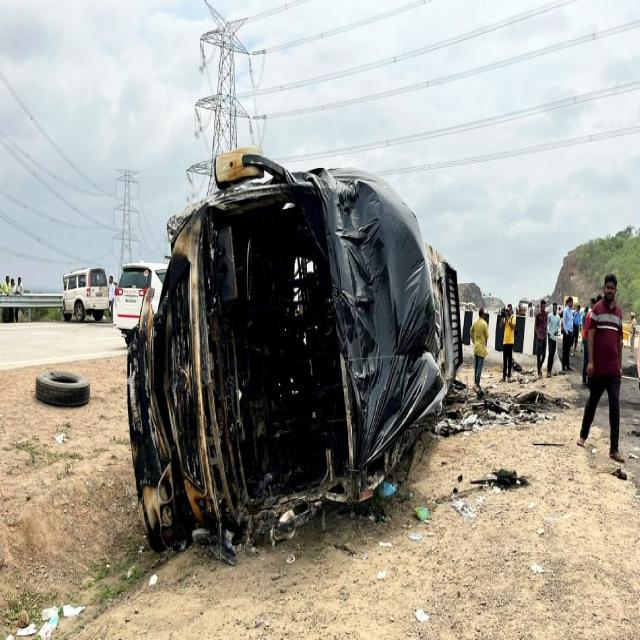accident: (128, 160, 462, 548)
car: (114, 263, 166, 342), (64, 269, 109, 322)
